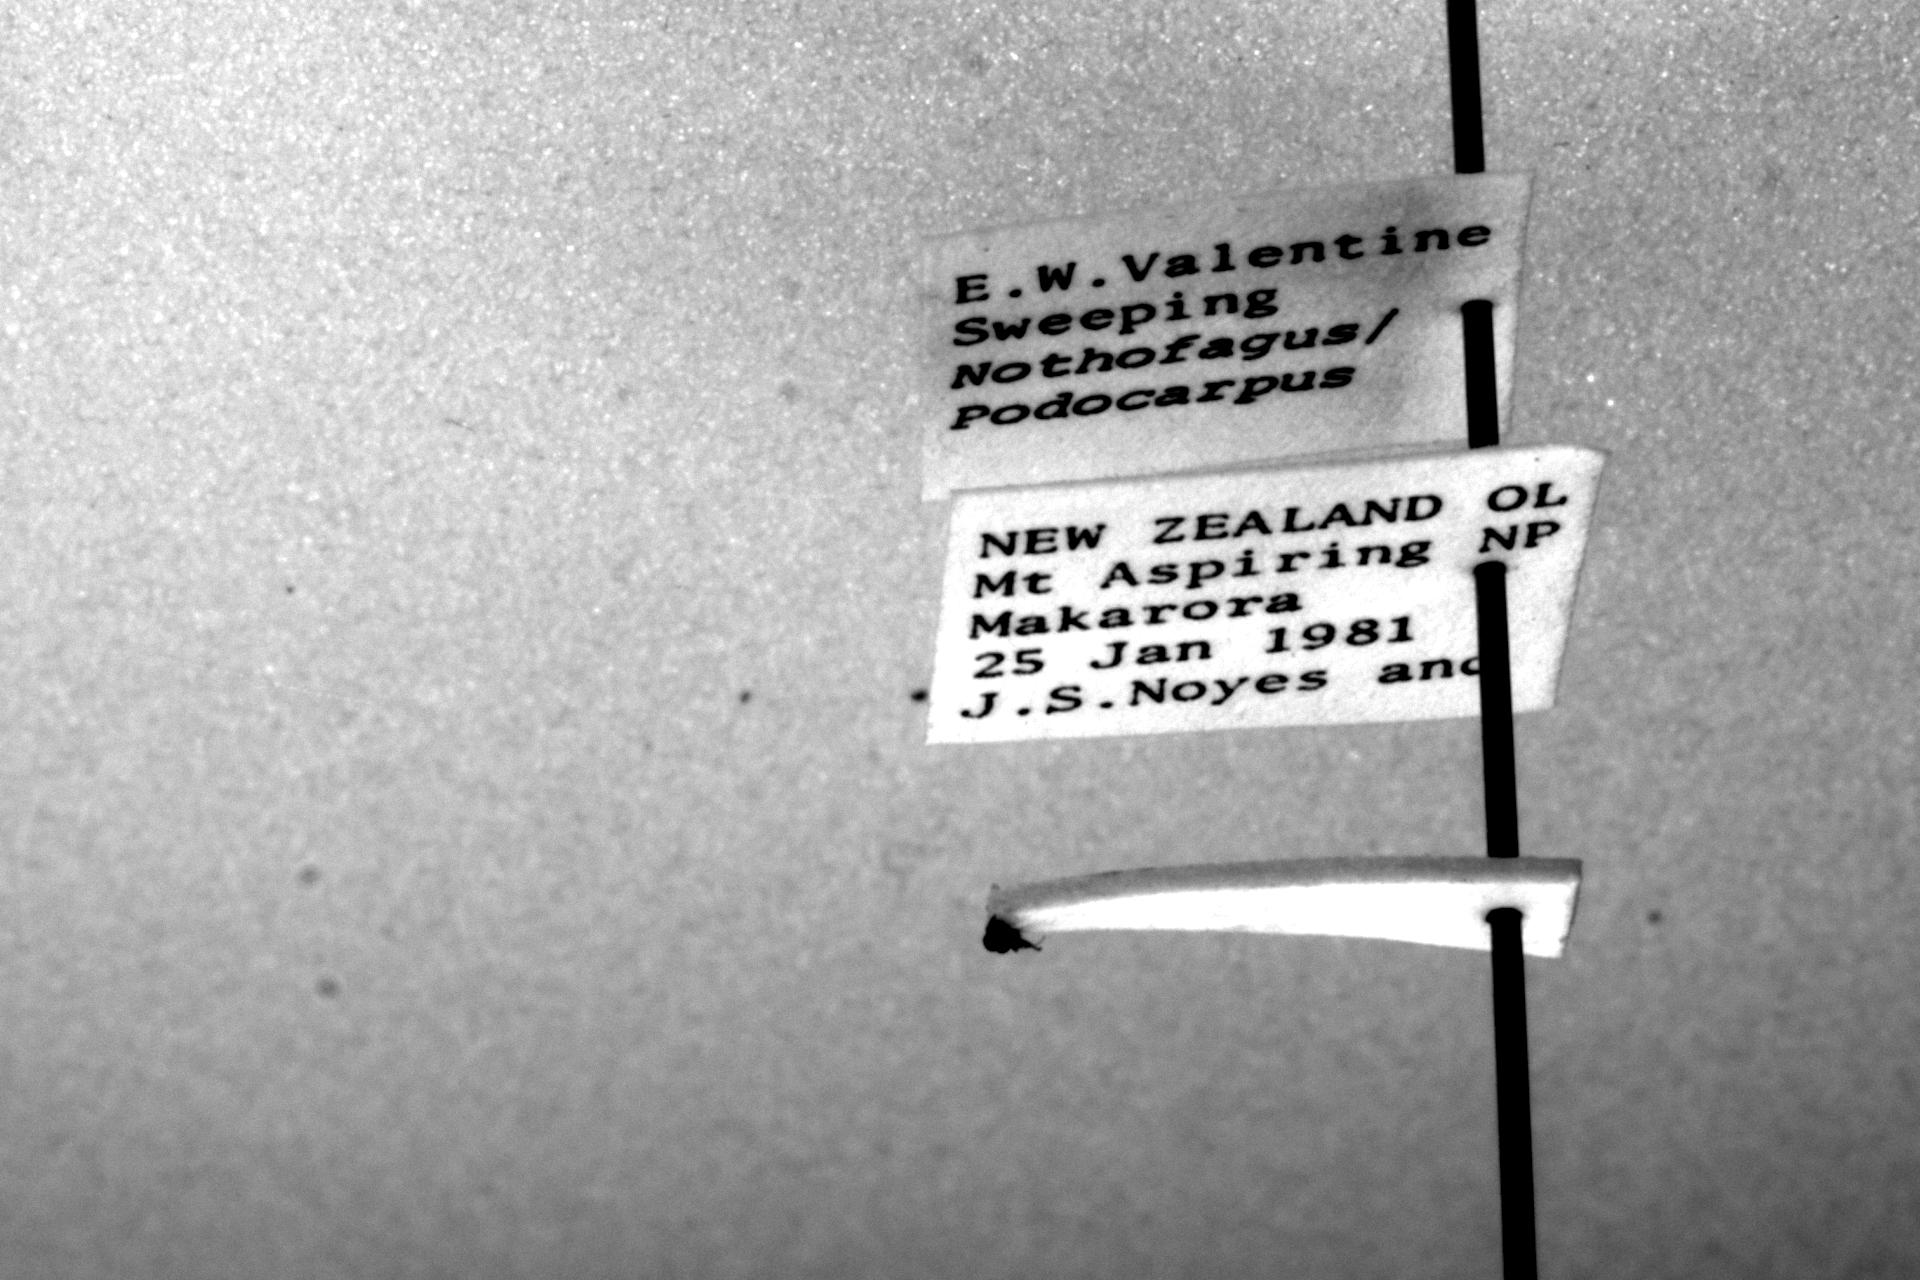typed_label: (926, 446, 1606, 743), (923, 173, 1530, 499)
